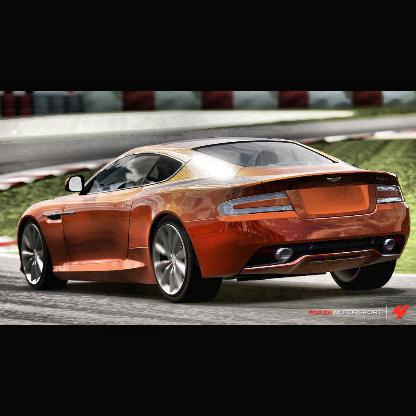Aston Martin Virage Coupe 2012: (11, 139, 413, 309)
